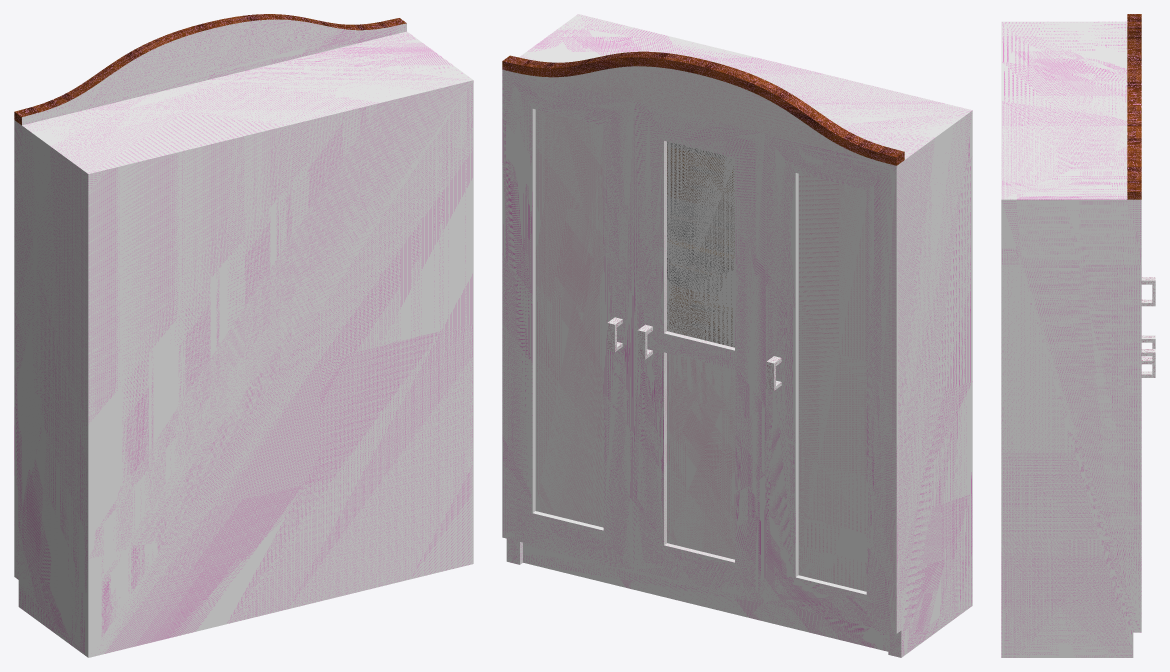
3 renders of one model, left to right at view 1: azimuth 30°, elevation 25°; view 2: azimuth 150°, elevation 25°; view 3: azimuth 270°, elevation 25°, orthographic. The views are drawn at different scales.
Parts seen in each view (by area): view 1: mesh2_mesh2-geometry, mesh1_mesh1-geometry; view 2: mesh2_mesh2-geometry, mesh1_mesh1-geometry; view 3: mesh2_mesh2-geometry, mesh1_mesh1-geometry.
Boxes of the visible parts, x1,y1,x2,y2 form: mesh2_mesh2-geometry: (14,31,473,657); mesh1_mesh1-geometry: (14,14,406,125); mesh2_mesh2-geometry: (502,14,972,657); mesh1_mesh1-geometry: (502,51,904,165); mesh2_mesh2-geometry: (1001,21,1155,657); mesh1_mesh1-geometry: (1127,14,1141,199).
Bounding box in the file's own units: 0.5882 × 0.7794 × 0.2157.
